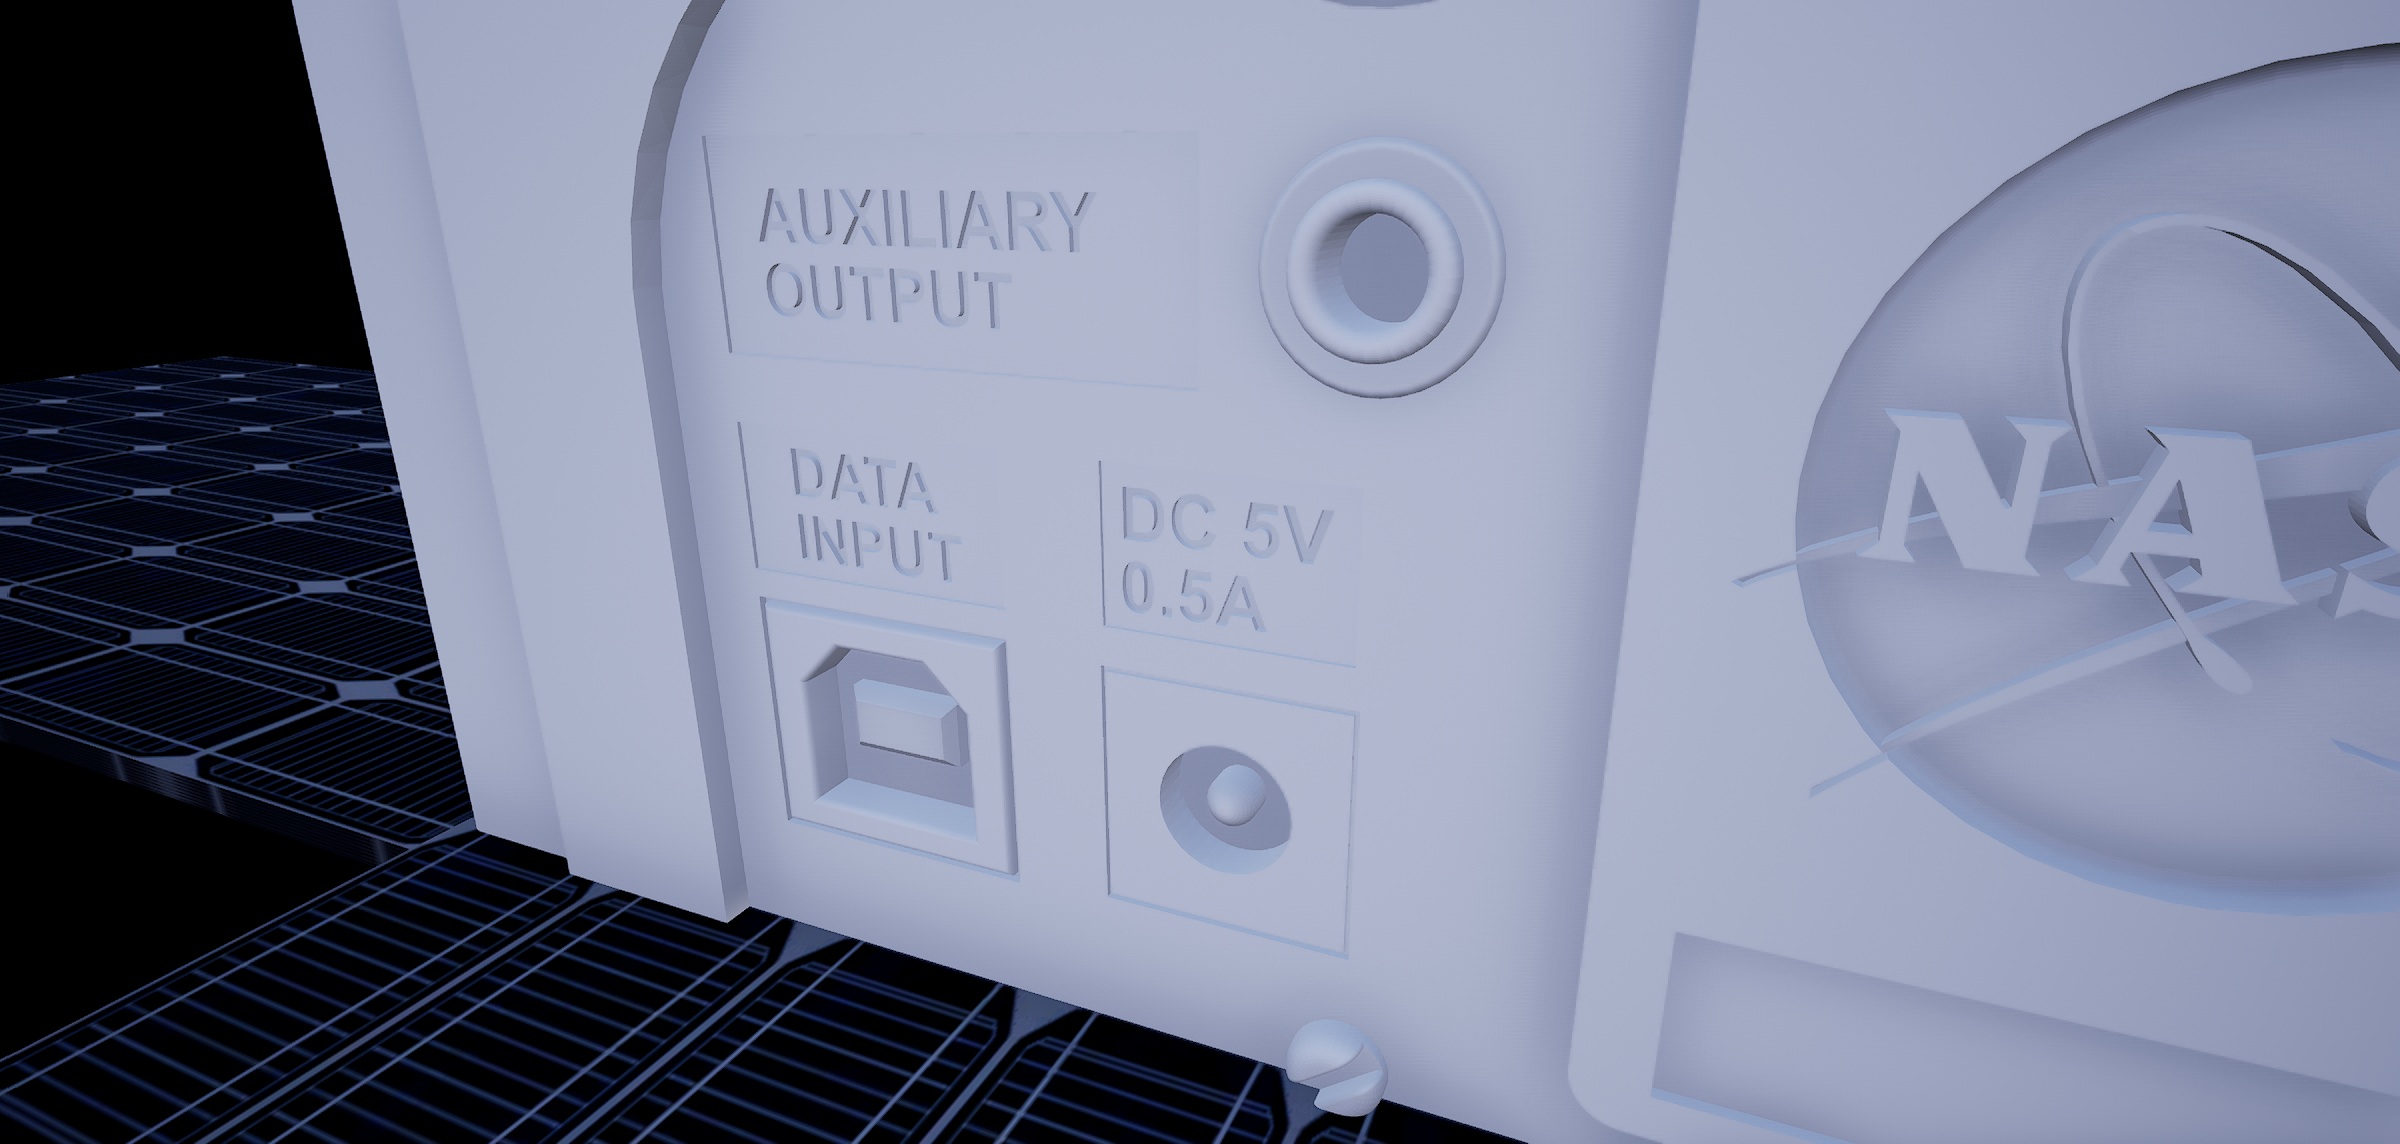aux: (1238, 106, 1526, 435)
dc: (1133, 734, 1309, 881)
usb: (788, 632, 996, 851)
